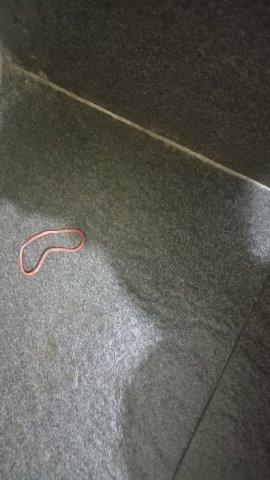karet: (19, 229, 86, 275)
